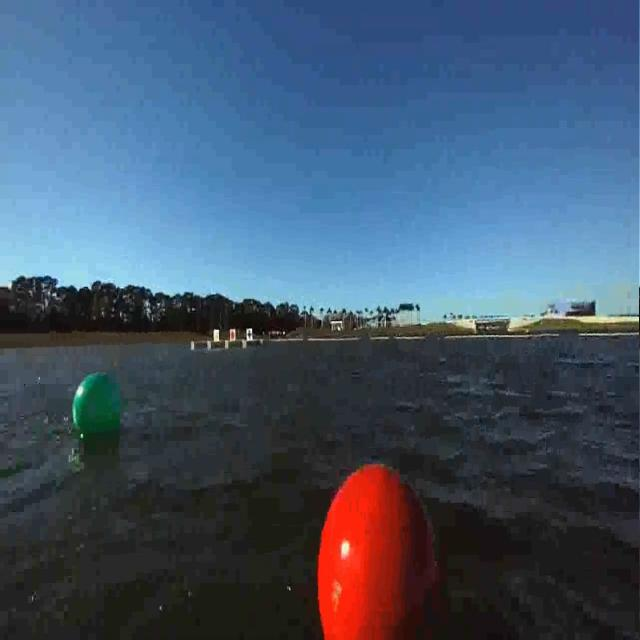green-buoy: (73, 373, 124, 437)
red-buoy: (313, 461, 450, 640)
